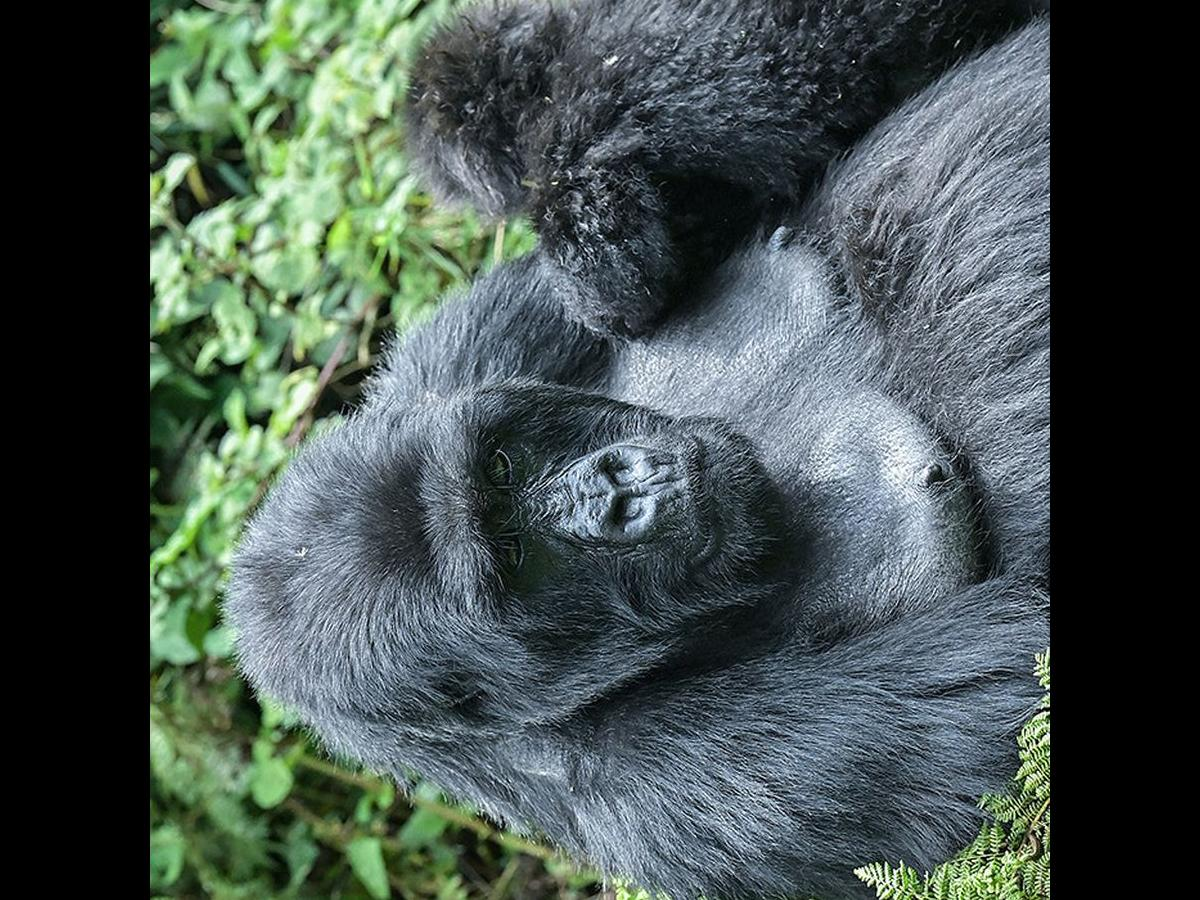goriile_montagne: (158, 0, 1050, 900)
